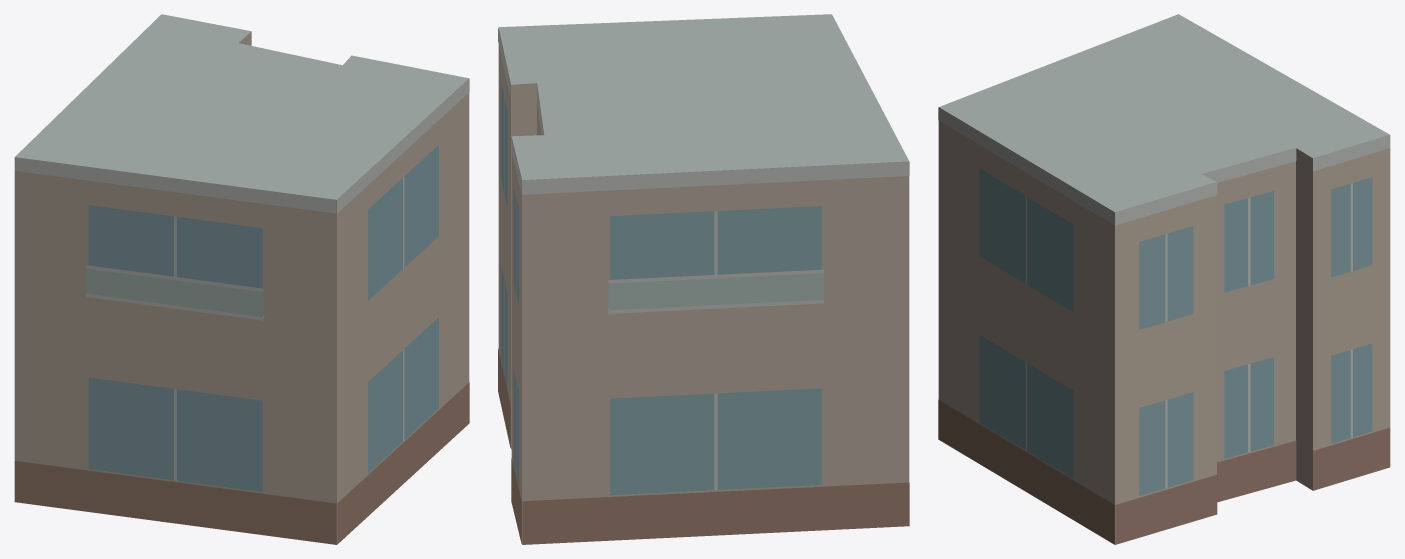
Rendered from survey-upis-32982950.glb.
3 views of the same model, side by side, from view 1: azimuth 30°, elevation 25°; view 2: azimuth 150°, elevation 25°; view 3: azimuth 270°, elevation 25° (orthographic). The views are drawn at different scales.
Visible parts, largest first — view 1: survey-upis-32982950.tmp; view 2: survey-upis-32982950.tmp; view 3: survey-upis-32982950.tmp.
Boxes of the visible parts, x1,y1,x2,y2 form: survey-upis-32982950.tmp: (14, 14, 469, 544); survey-upis-32982950.tmp: (498, 14, 909, 544); survey-upis-32982950.tmp: (938, 14, 1390, 544).
Size of the model in its own units: 7.81 by 6.1 by 7.52.
